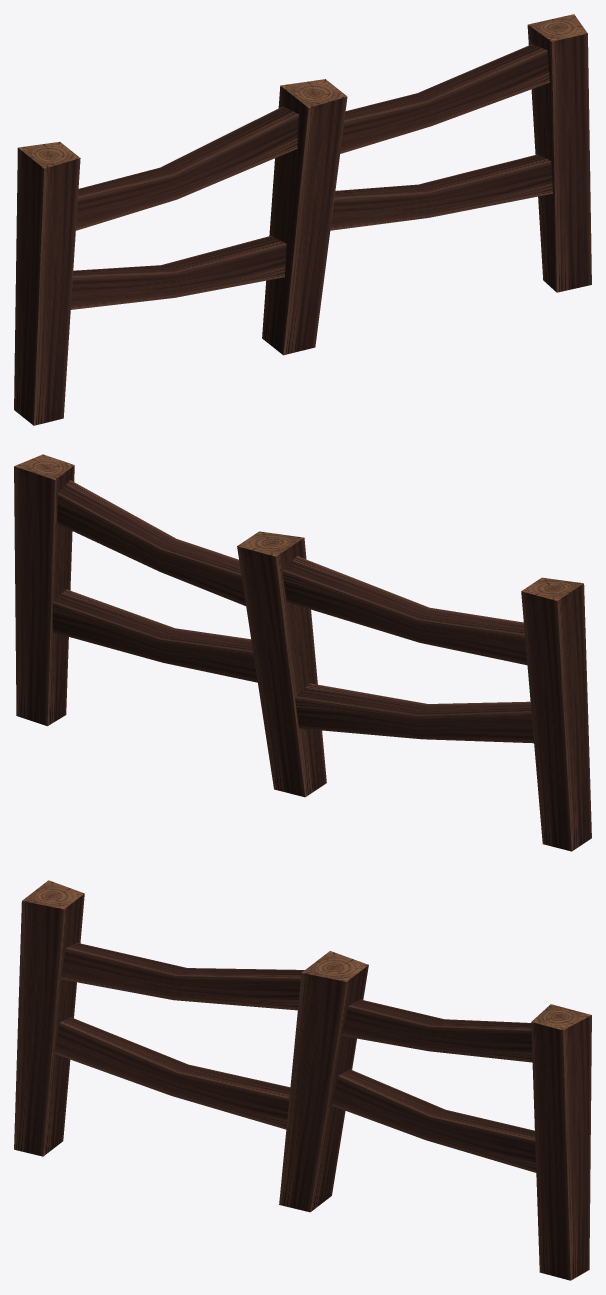
File: Fence.FBX
3 renders of one model, top to bottom at view 1: azimuth 30°, elevation 25°; view 2: azimuth 150°, elevation 25°; view 3: azimuth 330°, elevation 25°, orthographic.
Parts seen in each view (by area): view 1: Object003; view 2: Object003; view 3: Object003.
Part boxes in pixels (box(x1,y1,x2,y2)): Object003: box(14, 14, 591, 425); Object003: box(14, 454, 591, 851); Object003: box(14, 880, 591, 1280).
Size of the model in its own units: 1.04 by 0.4548 by 0.1233.
